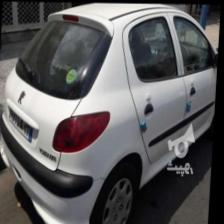plate: (8, 104, 38, 143)
